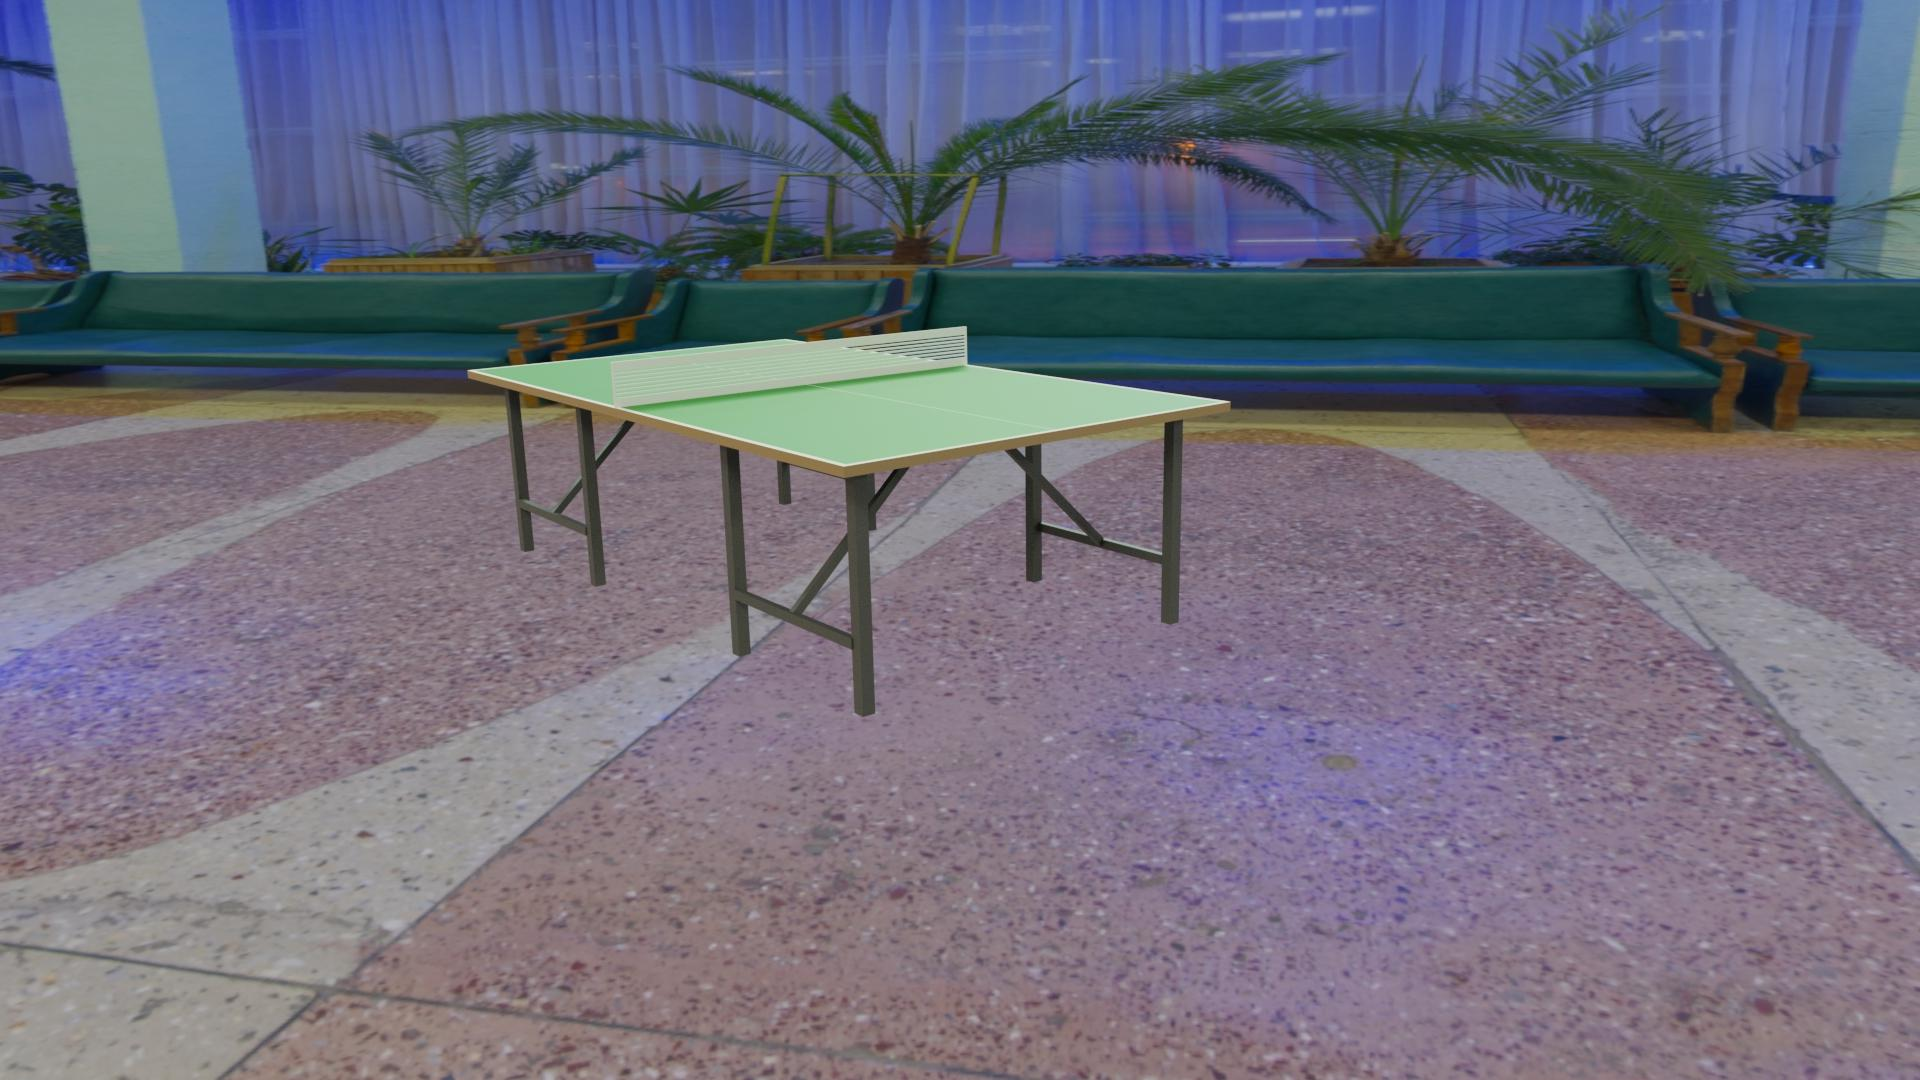table: (473, 340, 1222, 464)
